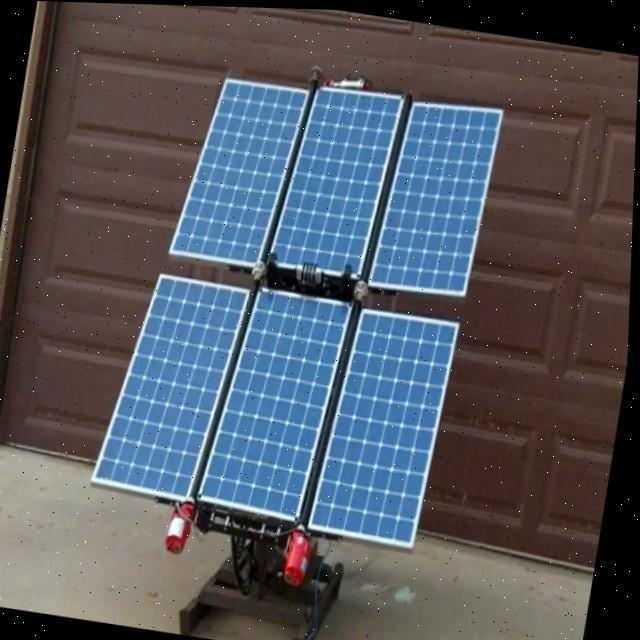Normal Solar Panel: (200, 284, 353, 524), (94, 270, 249, 504), (311, 303, 459, 546), (168, 72, 308, 269), (371, 92, 504, 298), (269, 79, 403, 278)
